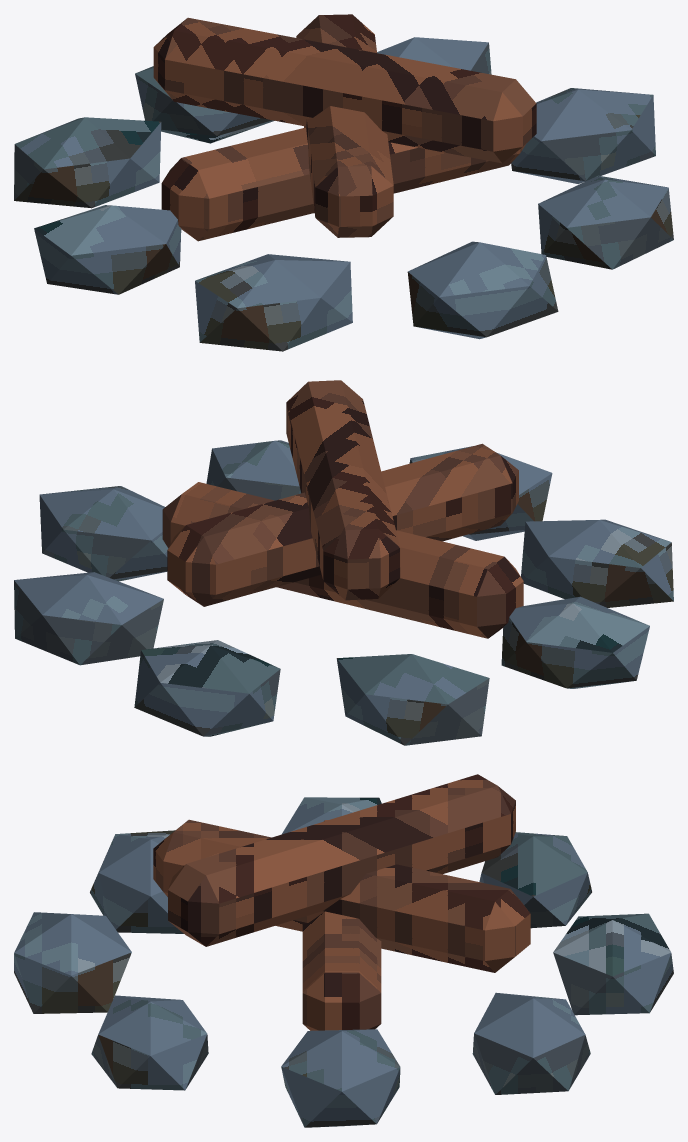
Rendered from enfeite_fogueira.fbx.
3 views of the same model, one above another, from view 1: azimuth 30°, elevation 25°; view 2: azimuth 150°, elevation 25°; view 3: azimuth 270°, elevation 25° (orthographic). The views are drawn at different scales.
Visible parts, largest first — view 1: pedreira_enfeite_fogueira; view 2: pedreira_enfeite_fogueira; view 3: pedreira_enfeite_fogueira.
Part boxes in pixels (x1=…): pedreira_enfeite_fogueira: x1=14, y1=14, x2=673, y2=351; pedreira_enfeite_fogueira: x1=14, y1=380, x2=673, y2=745; pedreira_enfeite_fogueira: x1=14, y1=774, x2=673, y2=1127.
Size of the model in its own units: 62.4 by 18.41 by 58.53.
2 materials, 2 textured.
